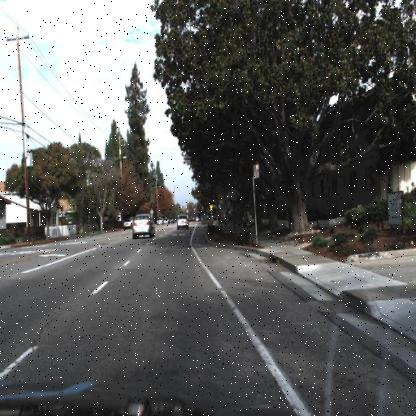car: (132, 213, 157, 240), (176, 214, 190, 233)
